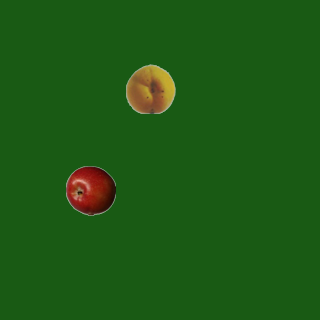Apple Braeburn: (65, 165, 115, 215)
Peach 2: (125, 63, 175, 113)
